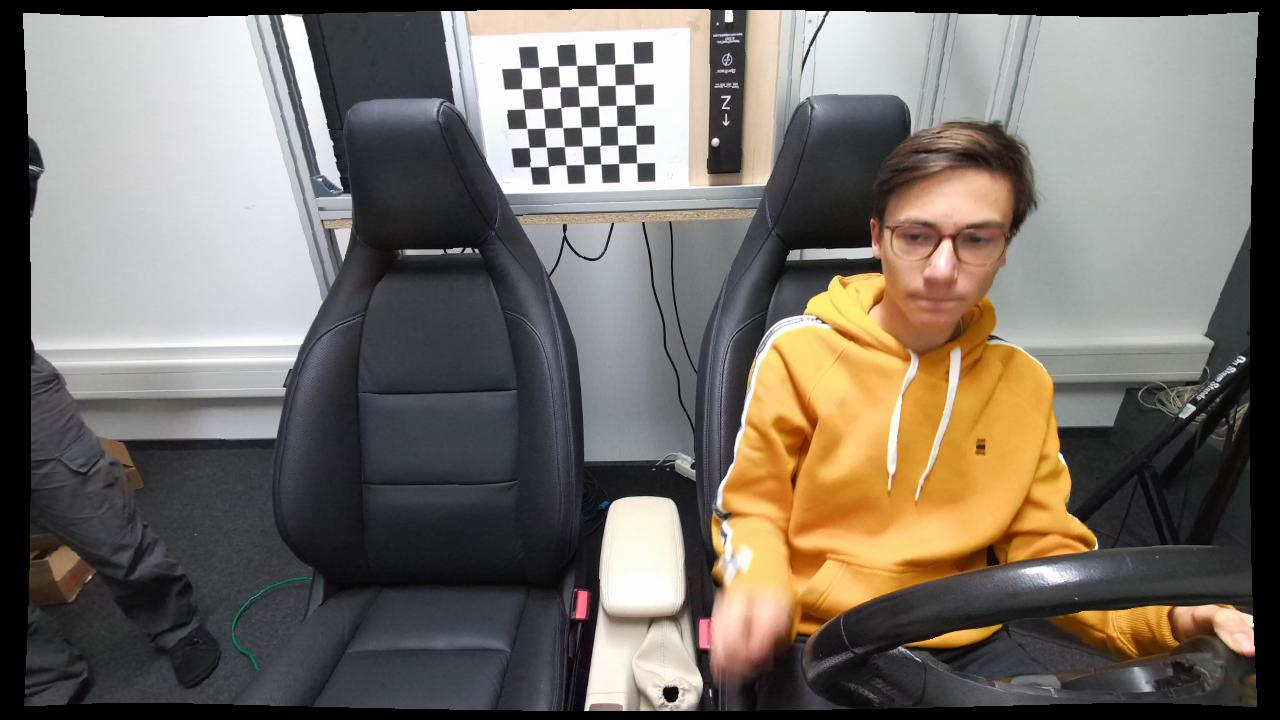Distracted: (699, 109, 1113, 711)
